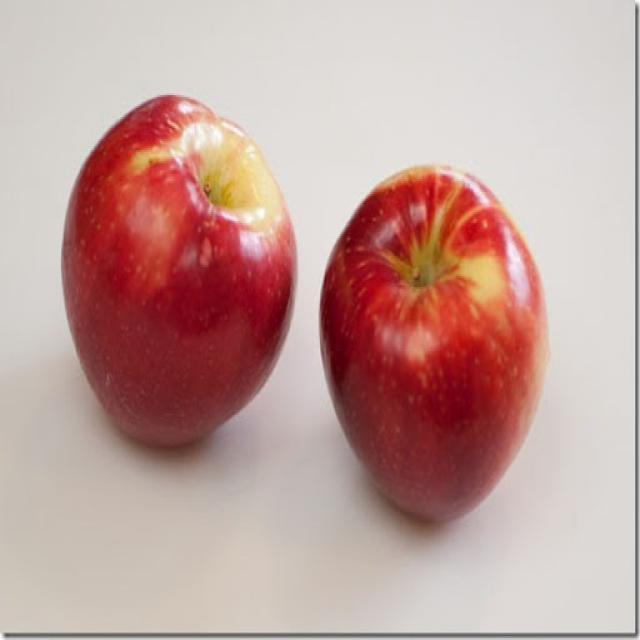Apple: (60, 90, 302, 458), (318, 161, 547, 539)
